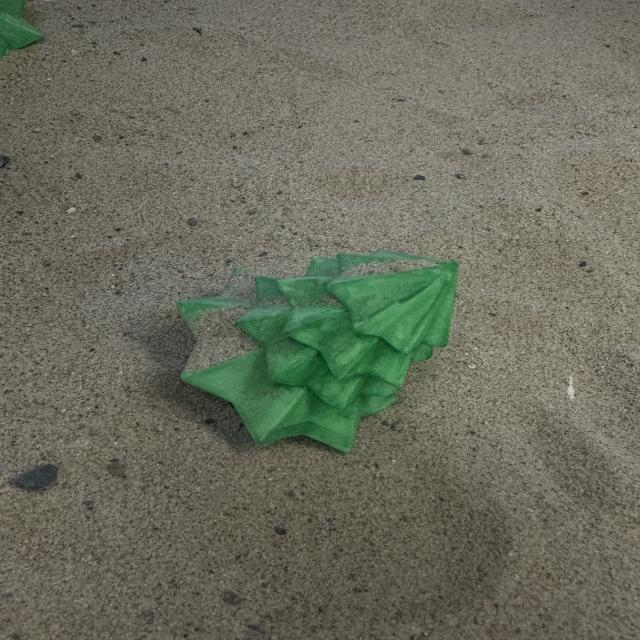tree: (175, 248, 460, 454)
